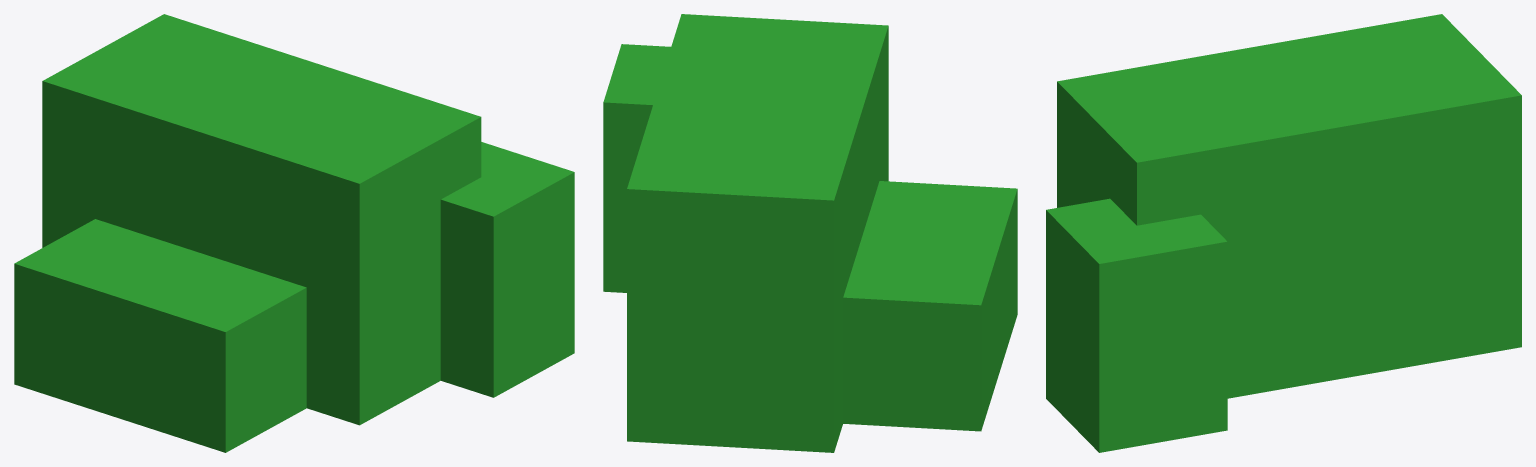
File: bush_2.glb
3 views of the same model, side by side, from view 1: azimuth 30°, elevation 25°; view 2: azimuth 150°, elevation 25°; view 3: azimuth 270°, elevation 25° (orthographic). The views are drawn at different scales.
Visible parts, largest first — view 1: pl0; view 2: pl0; view 3: pl0.
Part boxes in pixels (x1,y1,x2,y2): pl0: (14, 14, 574, 452); pl0: (603, 14, 1017, 452); pl0: (1046, 14, 1521, 452).
Size of the model in its own units: 7.84 by 4 by 6.85.
1 material, 1 textured.
